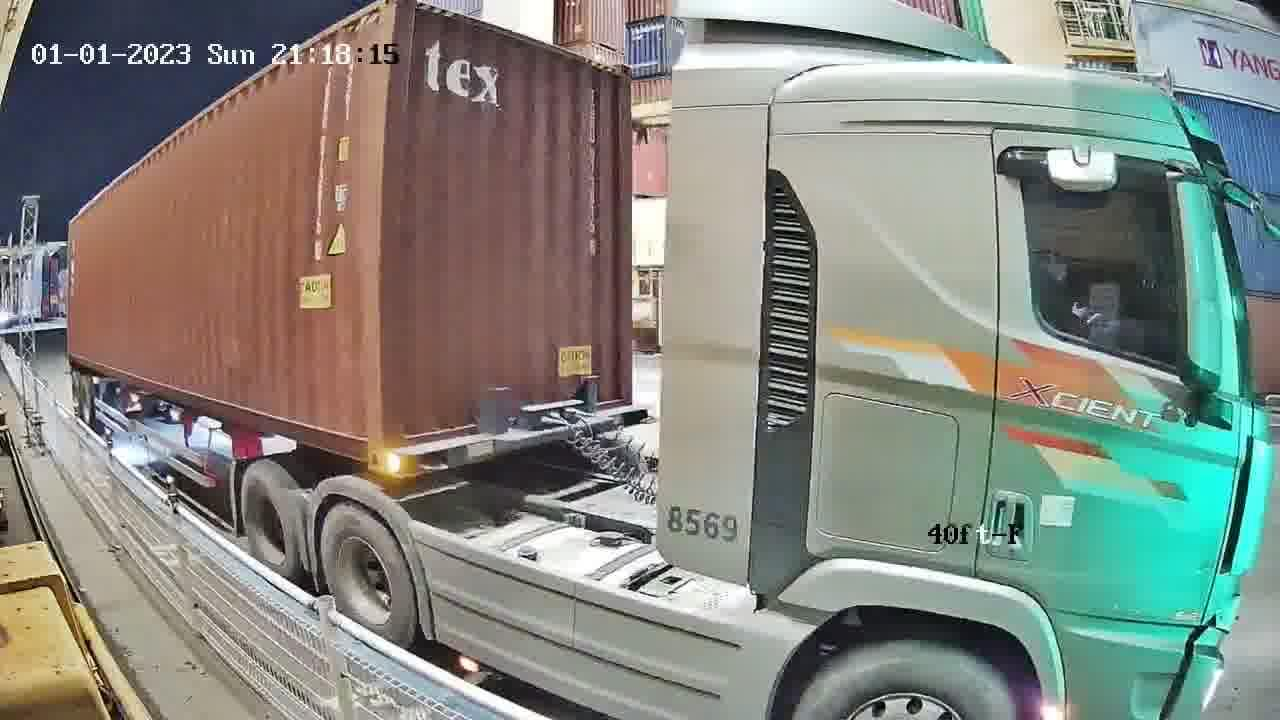Chassis: (388, 408, 650, 476)
Hole_R: (344, 398, 386, 474)
Tire: (795, 640, 1018, 719), (318, 506, 414, 645), (240, 467, 298, 580)
